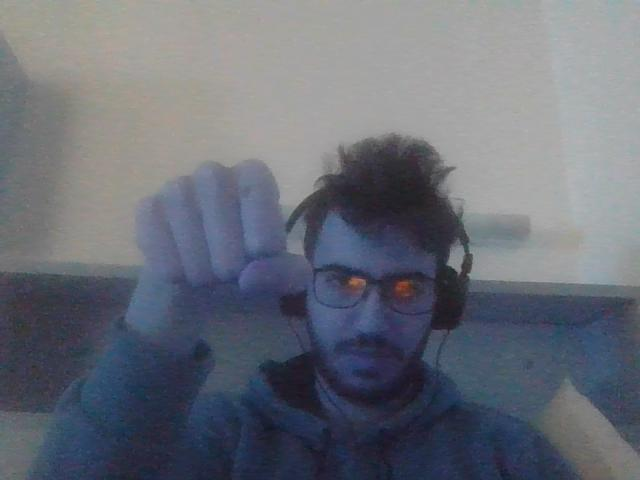yes: (131, 156, 314, 300)
